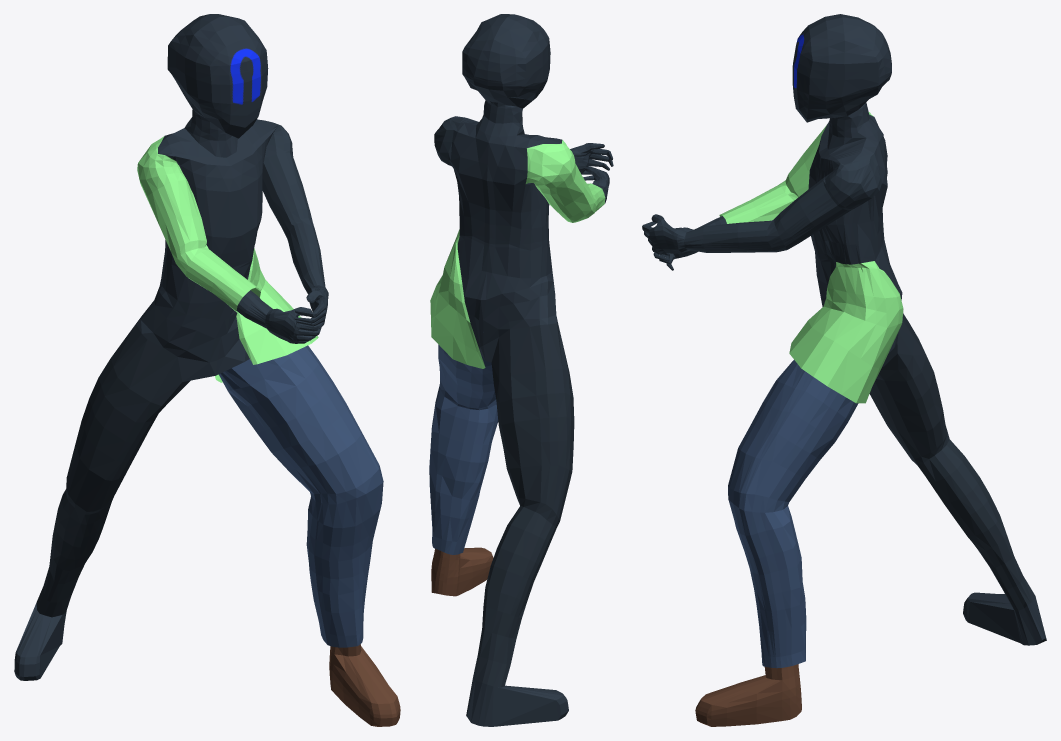
Rendered from Mar_WL_000016.obj.
The picture shows the model from 3 angles, left to right: view 1: azimuth 30°, elevation 25°; view 2: azimuth 150°, elevation 25°; view 3: azimuth 270°, elevation 25°; orthographic projection. The views are drawn at different scales.
Visible parts, largest first — view 1: Cube.000_Cube.001; view 2: Cube.000_Cube.001; view 3: Cube.000_Cube.001.
Boxes of the visible parts, box(x1,y1,x2,y2) form: Cube.000_Cube.001: box(14, 14, 400, 726); Cube.000_Cube.001: box(429, 14, 613, 726); Cube.000_Cube.001: box(642, 14, 1046, 726).
Size of the model in its own units: 1.42 by 3.72 by 2.07.
